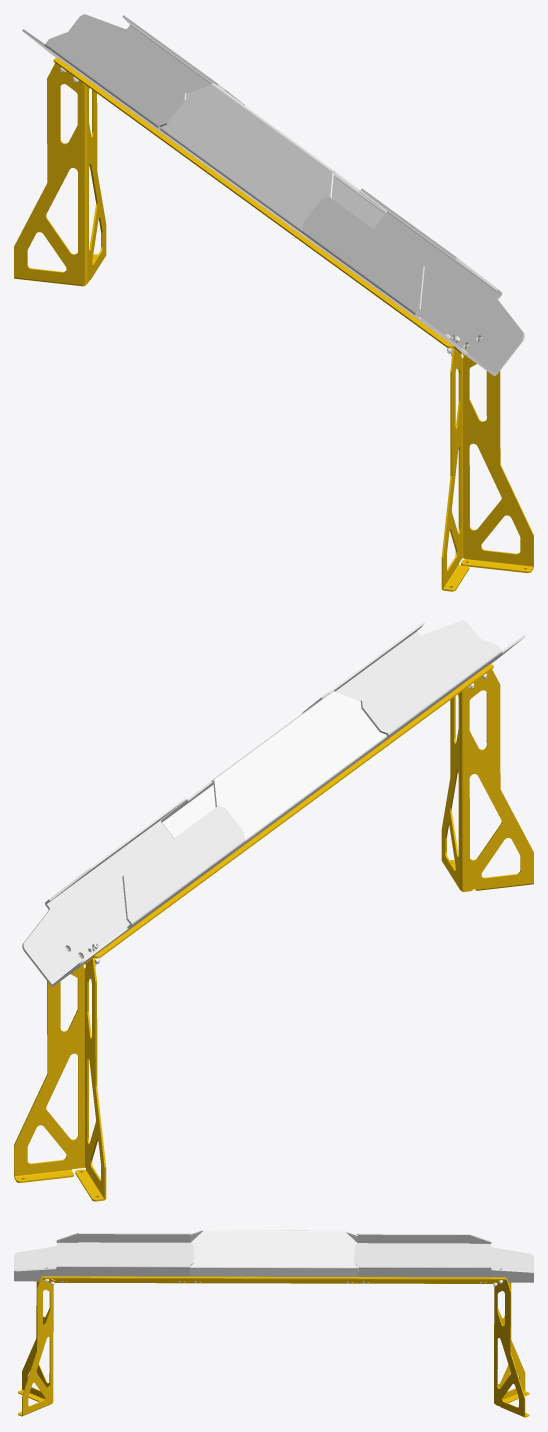
Rendered from Long Goal.fbx.
3 views of the same model, one above another, from view 1: azimuth 30°, elevation 25°; view 2: azimuth 150°, elevation 25°; view 3: azimuth 270°, elevation 25° (orthographic). The views are drawn at different scales.
Parts seen in each view (by area): view 1: Body1.001; view 2: Body1.001; view 3: Body1.001.
Part boxes in pixels (x1=…): Body1.001: x1=14, y1=14, x2=533, y2=591; Body1.001: x1=14, y1=620, x2=533, y2=1201; Body1.001: x1=14, y1=1230, x2=533, y2=1417.
Bounding box in the file's own units: 14.91 × 45.91 × 124.
